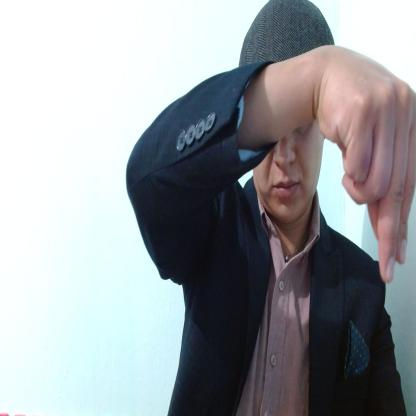N: (315, 44, 416, 284)
